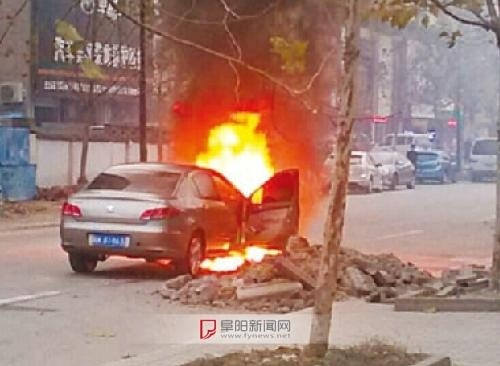fire: (194, 113, 274, 199), (199, 237, 280, 270)
